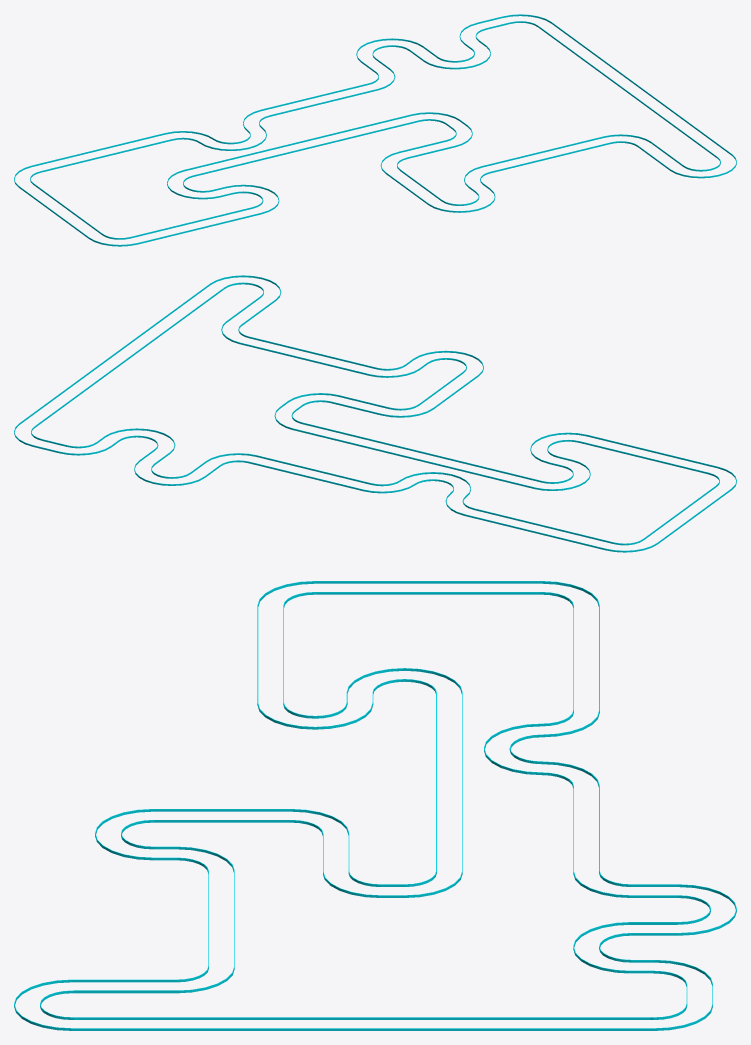
Rendered from pared.dae.
The picture shows the model from 3 angles, top to bottom: view 1: azimuth 30°, elevation 25°; view 2: azimuth 150°, elevation 25°; view 3: azimuth 270°, elevation 25°; orthographic projection. The views are drawn at different scales.
Parts seen in each view (by area): view 1: group_0, group_0_001, group_0_002; view 2: group_0, group_0_001, group_0_002; view 3: group_0, group_0_001, group_0_002.
Boxes of the visible parts, box(x1,y1,x2,y2) form: group_0: box(30, 21, 720, 239); group_0_001: box(14, 14, 736, 246); group_0_002: box(14, 14, 736, 199); group_0: box(31, 282, 719, 545); group_0_001: box(14, 275, 736, 552); group_0_002: box(14, 275, 736, 500); group_0: box(40, 592, 710, 1019); group_0_001: box(14, 581, 736, 1030); group_0_002: box(15, 581, 736, 1004).
Size of the model in its own units: 157 by 107 by 0.4.
